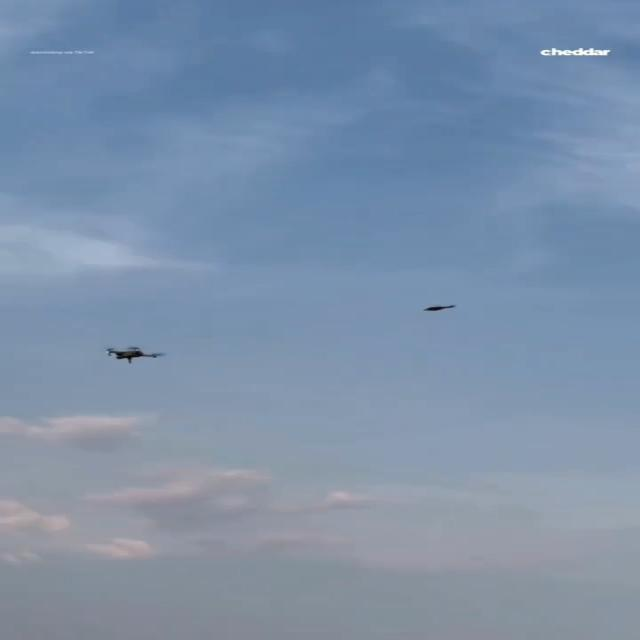bird: (422, 304, 455, 312)
drone: (105, 346, 163, 364)
